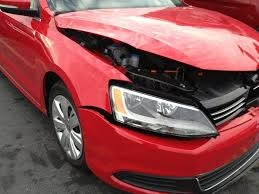Broken-glass: (111, 86, 218, 138)
